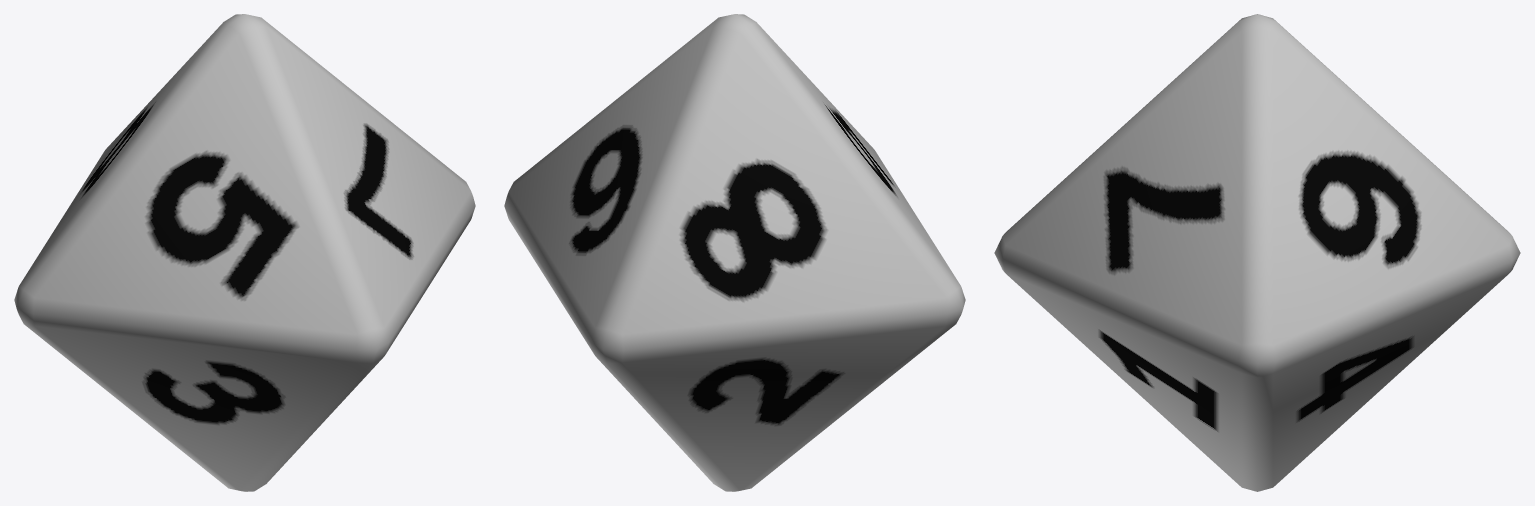
3 renders of one model, left to right at view 1: azimuth 30°, elevation 25°; view 2: azimuth 150°, elevation 25°; view 3: azimuth 270°, elevation 25°, orthographic.
Visible parts, largest first — view 1: 8Silver_8Silver_0; view 2: 8Silver_8Silver_0; view 3: 8Silver_8Silver_0.
Boxes of the visible parts, box(x1,y1,x2,y2) form: 8Silver_8Silver_0: box(14, 14, 475, 491); 8Silver_8Silver_0: box(504, 14, 965, 491); 8Silver_8Silver_0: box(994, 14, 1520, 491).
Size of the model in its own units: 1.86 by 1.86 by 1.86.
1 material, 1 textured.
